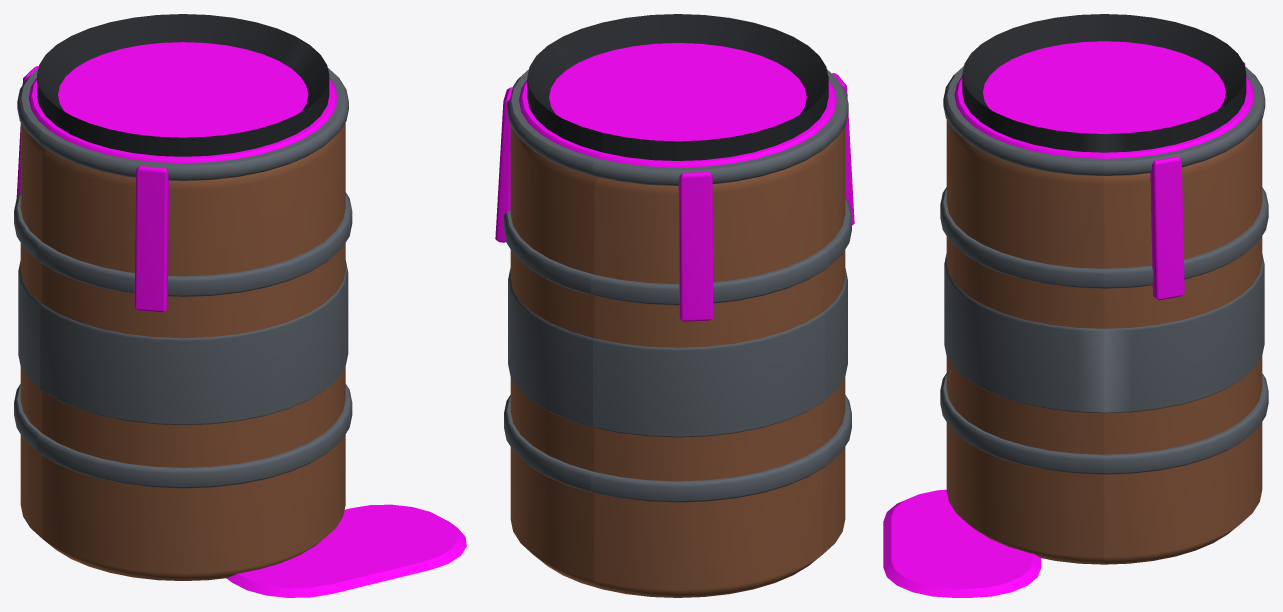
The model's file is objet_petrole_brut.glb.
3 renders of one model, left to right at view 1: azimuth 30°, elevation 25°; view 2: azimuth 150°, elevation 25°; view 3: azimuth 270°, elevation 25°, orthographic. The views are drawn at different scales.
Parts seen in each view (by area): view 1: baril_rouille.002, baril_acier_doux_sombre.008, baril_teinte.008, baril_symbole_noir.006; view 2: baril_rouille.002, baril_acier_doux_sombre.008, baril_teinte.008, baril_symbole_noir.006; view 3: baril_rouille.002, baril_acier_doux_sombre.008, baril_teinte.008, baril_symbole_noir.006.
Boxes of the visible parts, x1,y1,x2,y2 form: baril_rouille.002: [20, 123, 345, 580]; baril_acier_doux_sombre.008: [14, 68, 352, 488]; baril_teinte.008: [16, 42, 466, 597]; baril_symbole_noir.006: [37, 14, 329, 156]; baril_rouille.002: [510, 126, 845, 597]; baril_acier_doux_sombre.008: [504, 69, 851, 502]; baril_teinte.008: [495, 43, 854, 321]; baril_symbole_noir.006: [527, 14, 828, 160]; baril_rouille.002: [946, 119, 1262, 564]; baril_acier_doux_sombre.008: [940, 66, 1268, 474]; baril_teinte.008: [883, 41, 1254, 597]; baril_symbole_noir.006: [962, 14, 1246, 152].
Size of the model in its own units: 0.244 by 0.301 by 0.244.
